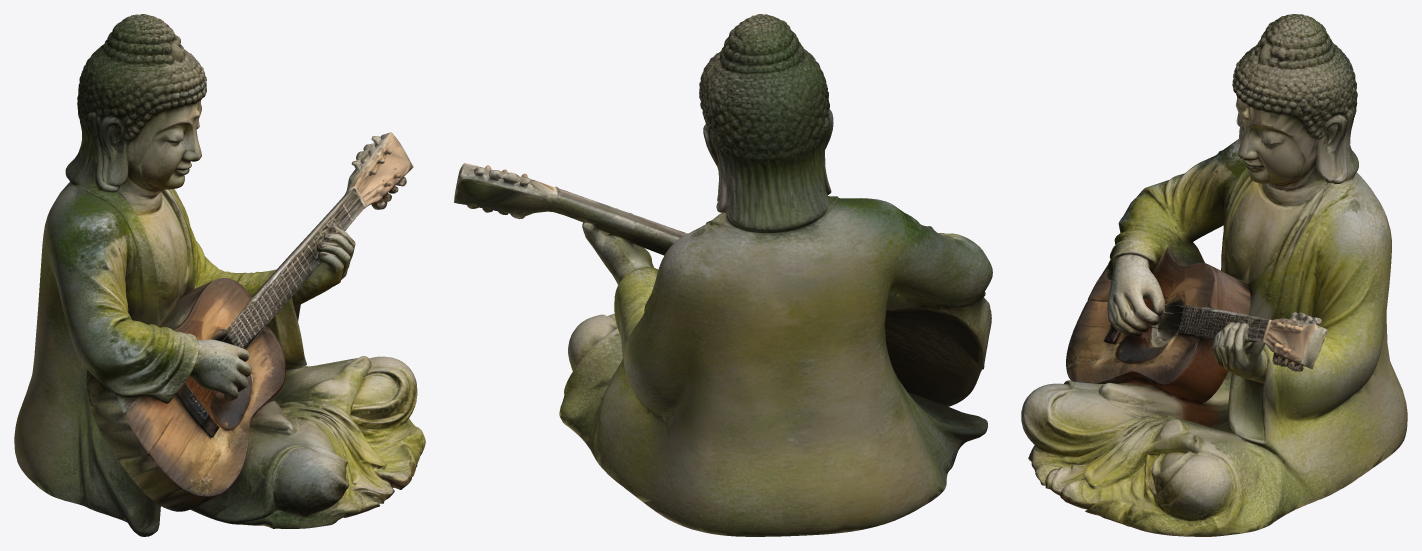
File: garden-buddha.glb
3 renders of one model, left to right at view 1: azimuth 30°, elevation 25°; view 2: azimuth 150°, elevation 25°; view 3: azimuth 270°, elevation 25°, orthographic. The views are drawn at different scales.
Parts seen in each view (by area): view 1: node_0; view 2: node_0; view 3: node_0.
Part boxes in pixels (x1=…): node_0: x1=14, y1=14, x2=425, y2=536; node_0: x1=454, y1=14, x2=992, y2=536; node_0: x1=1021, y1=14, x2=1407, y2=536.
Bounding box in the file's own units: 0.8388 × 0.8369 × 0.7035.
Materials: 1 (1 with a texture image).
